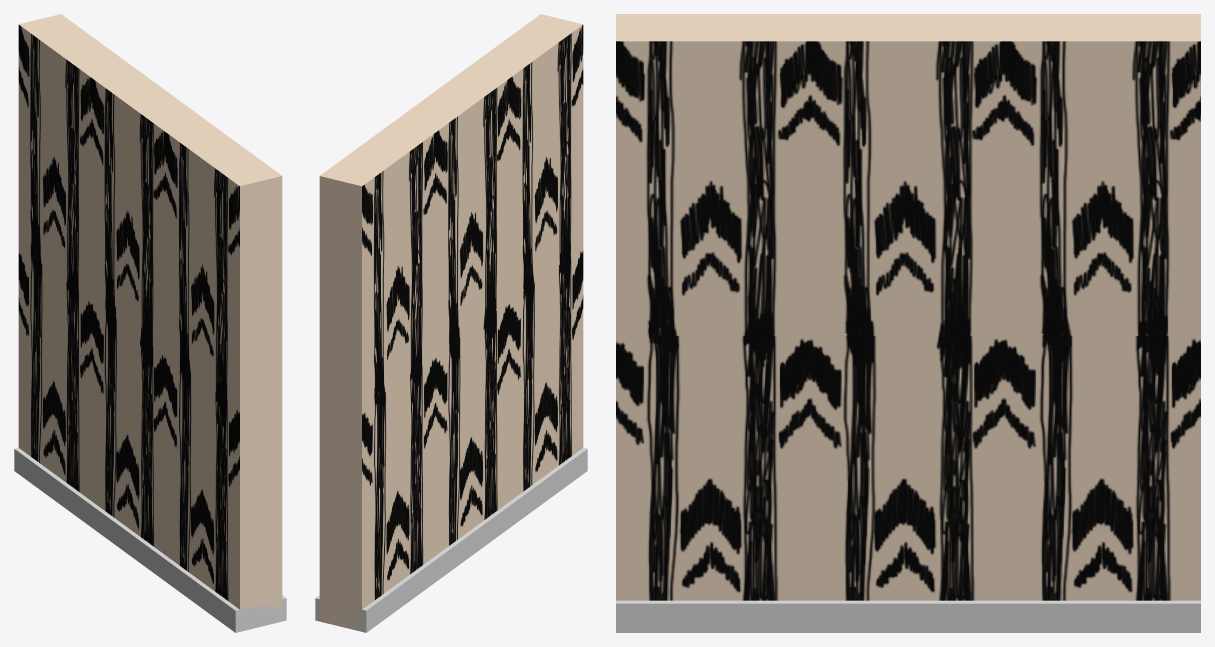
The model's file is pardemode.fbx.
3 views of the same model, side by side, from view 1: azimuth 30°, elevation 25°; view 2: azimuth 150°, elevation 25°; view 3: azimuth 270°, elevation 25° (orthographic). The views are drawn at different scales.
Parts seen in each view (by area): view 1: paredx.006, paredx.007; view 2: paredx.006, paredx.007; view 3: paredx.006, paredx.007.
Boxes of the visible parts, x1=… form: paredx.006: x1=18, y1=14, x2=282, y2=619; paredx.007: x1=14, y1=447, x2=286, y2=632; paredx.006: x1=319, y1=14, x2=583, y2=631; paredx.007: x1=315, y1=447, x2=587, y2=632; paredx.006: x1=616, y1=14, x2=1200, y2=600; paredx.007: x1=616, y1=600, x2=1200, y2=632.
Size of the model in its own units: 12 by 100 by 90.
